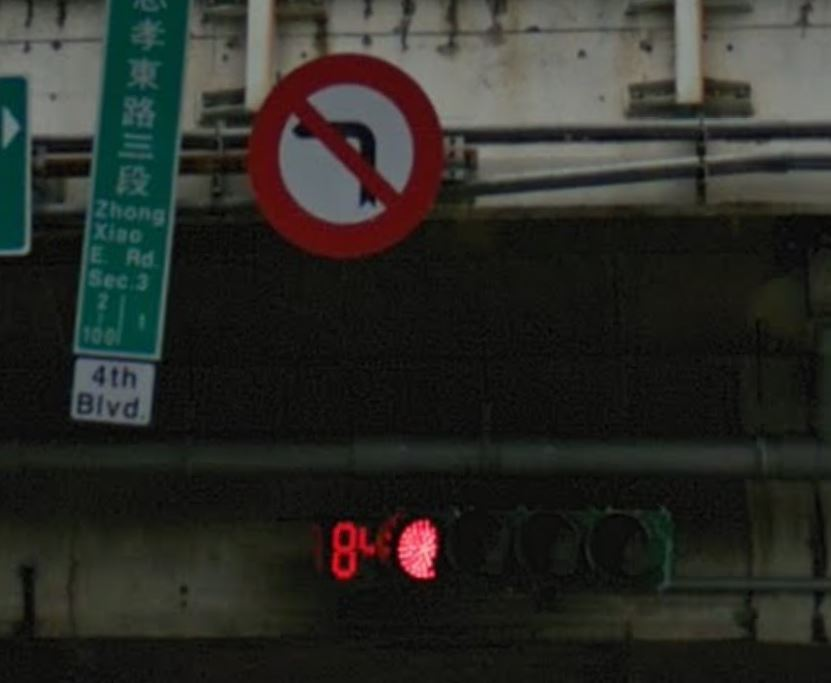No_left_turn: (244, 53, 443, 259)
Traffic_light_red: (318, 506, 672, 591)
